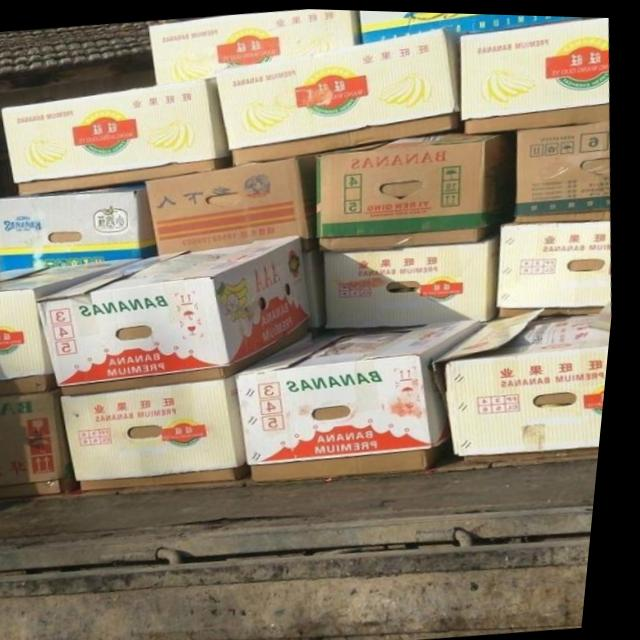box: (41, 232, 317, 396), (242, 316, 488, 479), (216, 24, 463, 164), (2, 76, 233, 196), (439, 305, 617, 460), (319, 128, 507, 250), (68, 372, 259, 490), (0, 257, 149, 396), (147, 151, 325, 254), (329, 231, 505, 332), (460, 14, 611, 130), (149, 7, 361, 85), (0, 184, 161, 271), (503, 216, 616, 314), (0, 386, 87, 498), (518, 117, 614, 218), (359, 8, 589, 42)
